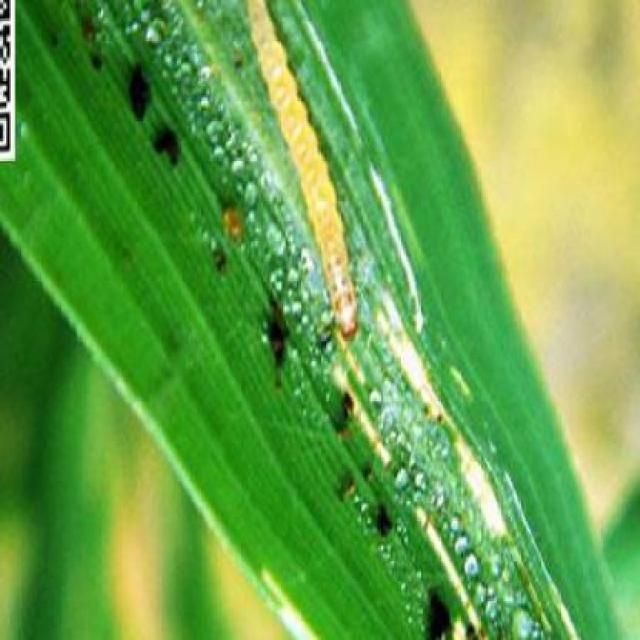leaf-folder: (222, 4, 389, 347)
